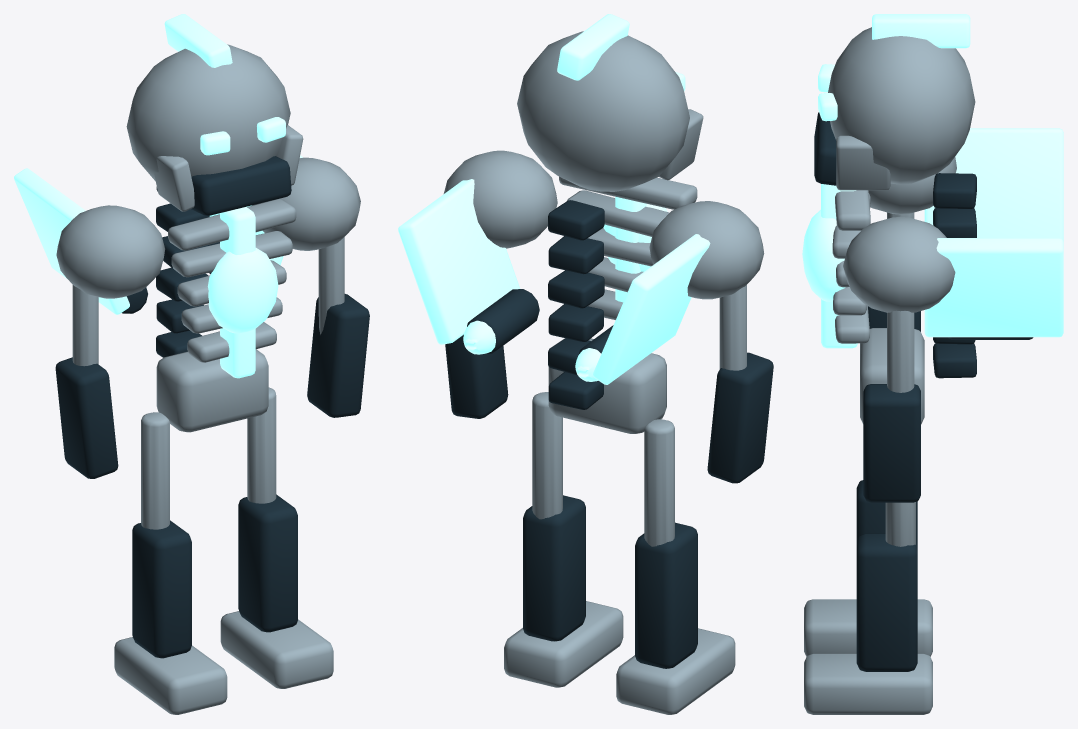
The model's file is Pathfinder_CryoRevenant_Armor.fbx.
3 views of the same model, side by side, from view 1: azimuth 30°, elevation 25°; view 2: azimuth 150°, elevation 25°; view 3: azimuth 270°, elevation 25° (orthographic). The views are drawn at different scales.
Visible parts, largest first — view 1: Skull, Scapula_L, ShinBlade_R, ShinBlade_L, Pelvis, ForearmBlade_R, ForearmBlade_L, Talon_L, Talon_R, Scapula_R, FrozenHeart, Jaw (+20 smaller); view 2: Skull, AeroFin_1, ShinBlade_L, ShinBlade_R, AeroFin_-1, Scapula_L, Scapula_R, ForearmBlade_L, Talon_R, Talon_L, Pelvis, ForearmBlade_R (+19 smaller); view 3: Skull, AeroFin_1, AeroFin_-1, Scapula_R, ShinBlade_R, Talon_R, ForearmBlade_R, Talon_L, CranialSpine, FrozenHeart, CheekBlade_1, Pelvis (+15 smaller).
Part boxes in pixels (x1,y1,x2,y2): Skull: (126,44,290,180); Scapula_L: (56,205,165,298); ShinBlade_R: (238,494,297,632); ShinBlade_L: (132,520,191,658); Pelvis: (156,349,268,432); ForearmBlade_R: (307,294,369,417); ForearmBlade_L: (55,357,118,478); Talon_L: (114,637,227,714); Talon_R: (220,611,333,688); Scapula_R: (252,157,360,250); FrozenHeart: (207,248,278,333); Jaw: (191,156,291,215); Skull: (517,31,689,191); AeroFin_1: (398,179,520,344); ShinBlade_L: (635,522,697,668); ShinBlade_R: (523,495,585,641); AeroFin_-1: (593,234,710,384); Scapula_L: (649,201,764,299); Scapula_R: (443,150,557,248); ForearmBlade_L: (707,352,773,483); Talon_R: (504,601,623,687); Talon_L: (616,628,735,714); Pelvis: (548,338,666,433); ForearmBlade_R: (445,334,508,418); Skull: (828,27,975,184); AeroFin_1: (924,238,1063,337); AeroFin_-1: (924,128,1063,241); Scapula_R: (843,216,955,312); ShinBlade_R: (856,533,917,671); Talon_R: (804,653,932,714); ForearmBlade_R: (863,384,920,502); Talon_L: (804,599,932,656); CranialSpine: (872,14,970,48); FrozenHeart: (802,209,845,301); CheekBlade_1: (836,135,890,190); Pelvis: (860,328,924,424).
Size of the model in its own units: 209 by 429 by 154.
